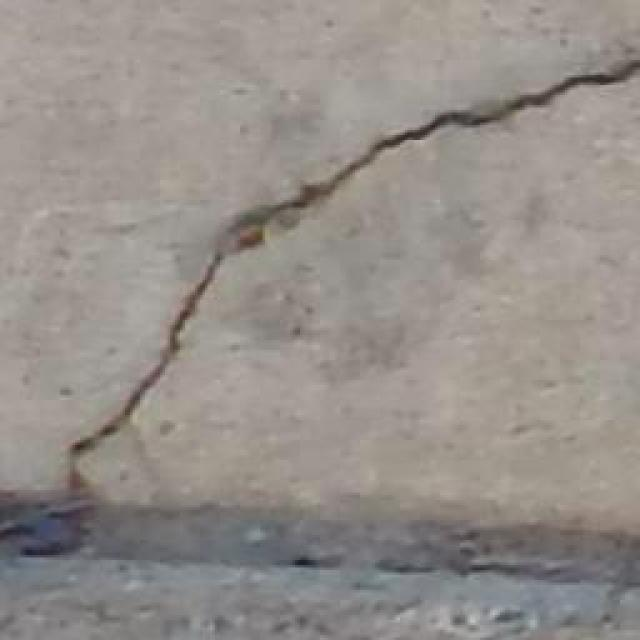concrete-crack: (68, 58, 640, 492)
